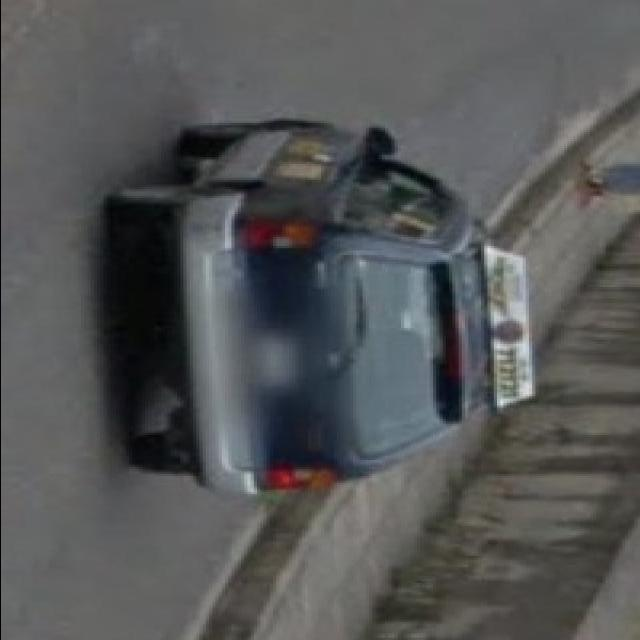car: (78, 104, 557, 507)
